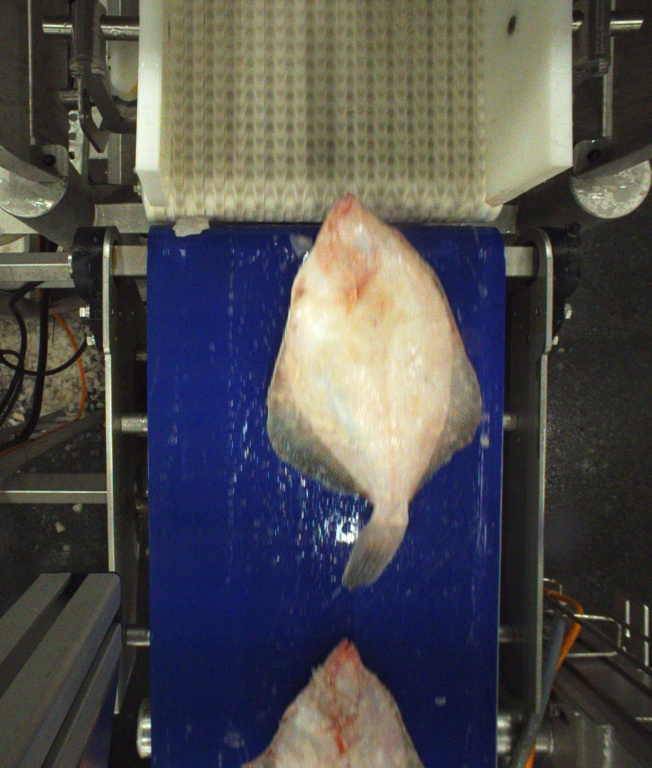PLE: (265, 193, 482, 587)
